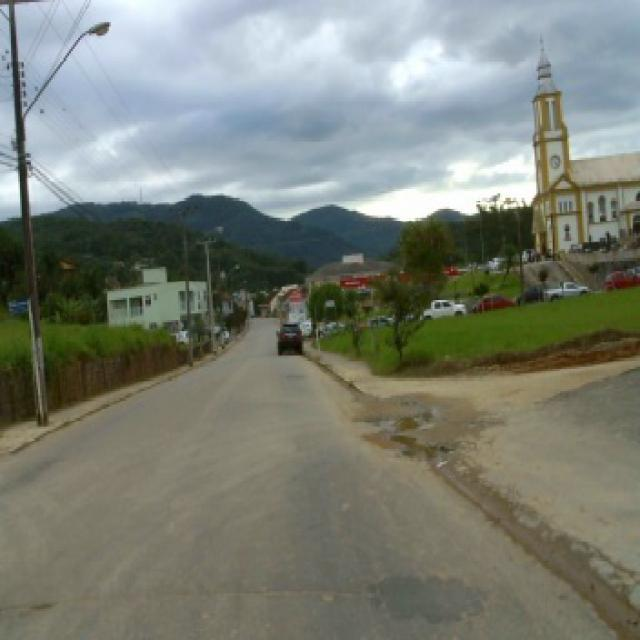Poth-hole: (358, 393, 456, 458), (26, 598, 56, 612)
